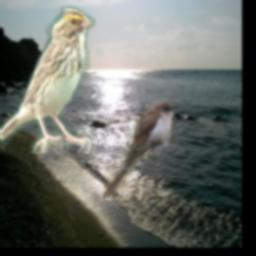Cuckoo: (101, 100, 179, 198)
Sparrow: (0, 7, 95, 154)
